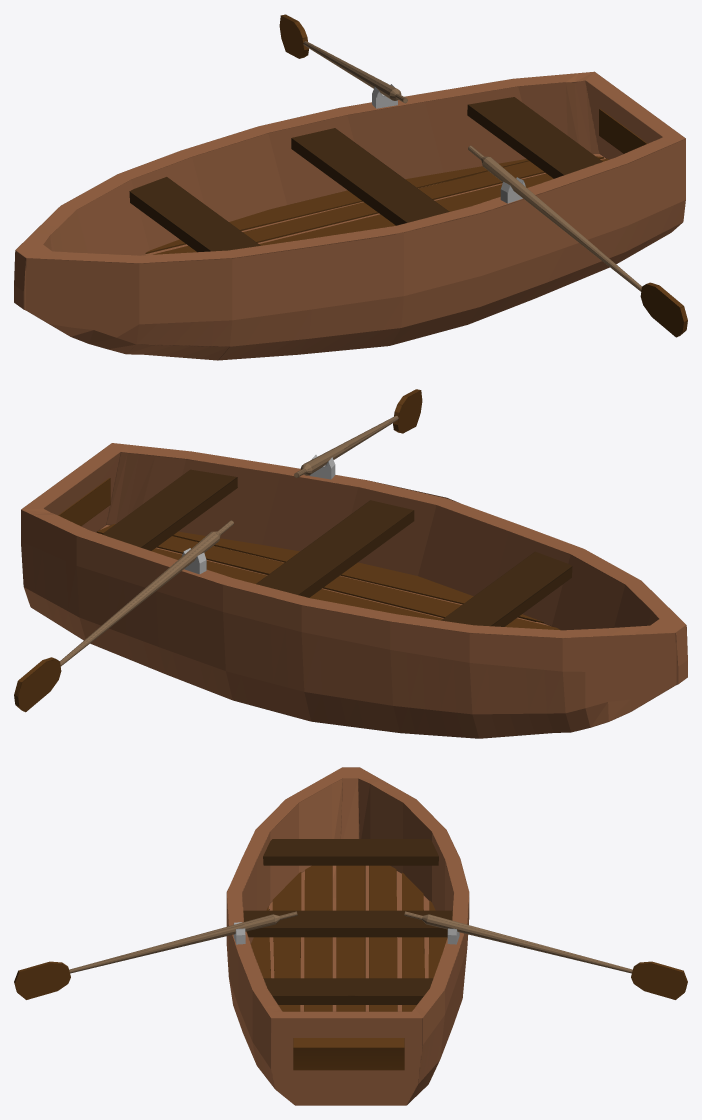
The model's file is BlueD.obj.
The picture shows the model from 3 angles, top to bottom: view 1: azimuth 30°, elevation 25°; view 2: azimuth 150°, elevation 25°; view 3: azimuth 270°, elevation 25°; orthographic projection. The views are drawn at different scales.
Size of the model in its own units: 773 by 181 by 863.
1 material, 1 textured.
